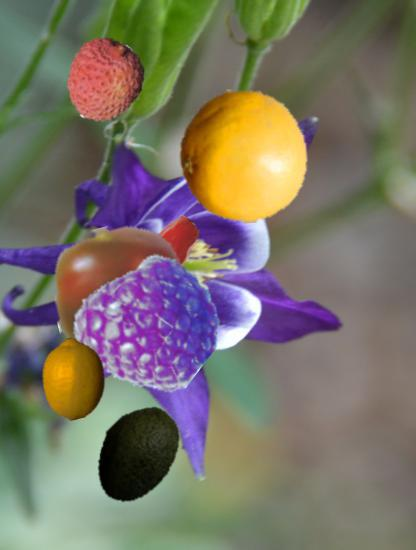Avocado: (85, 402, 188, 505)
Banana: (70, 275, 194, 399)
Grapefruit: (176, 88, 312, 224)
Lemon: (33, 338, 115, 420)
Lychee: (61, 38, 146, 123)
Raspberry: (81, 256, 218, 393)
Tomato: (52, 225, 189, 362), (130, 212, 206, 288)
